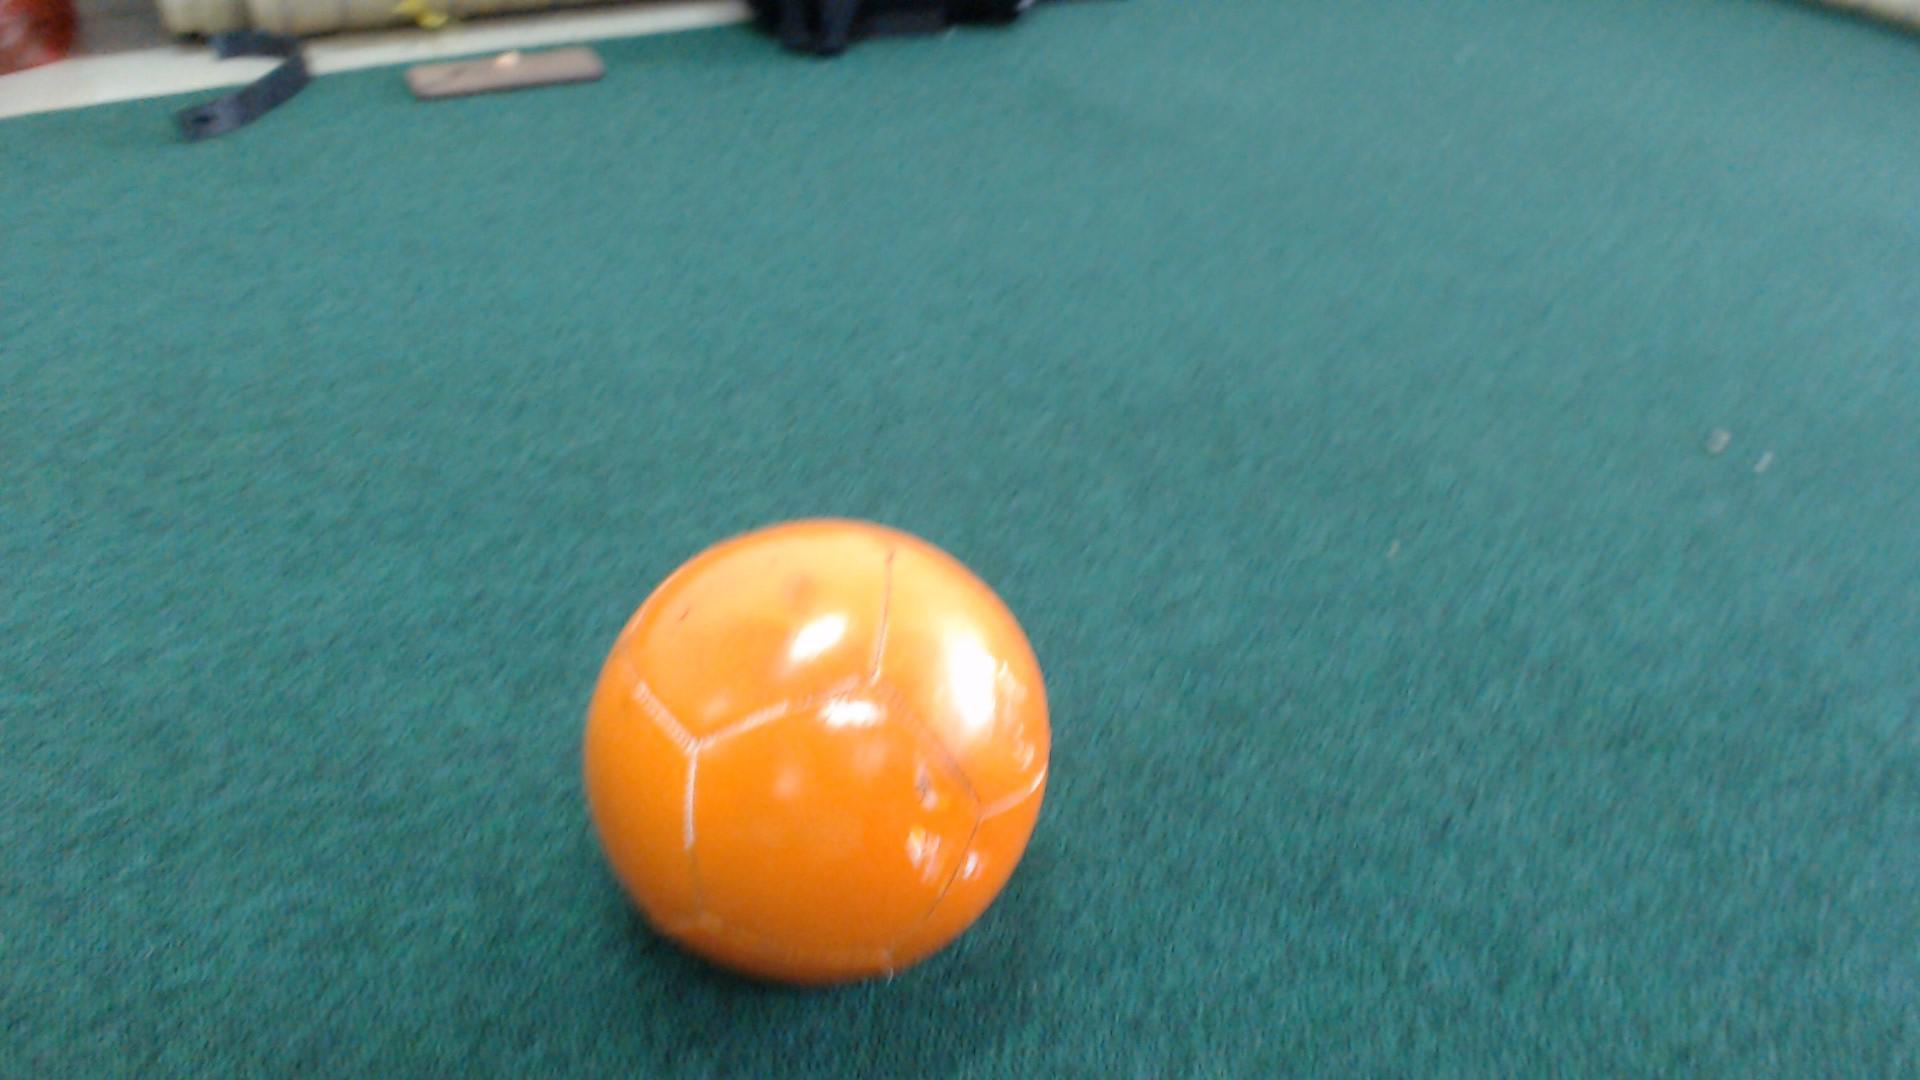bola: (568, 496, 1096, 1001)
